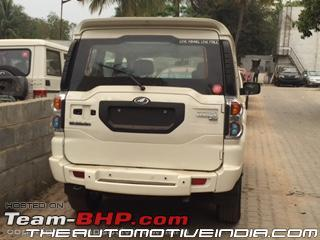number_plate: (97, 99, 195, 138)
